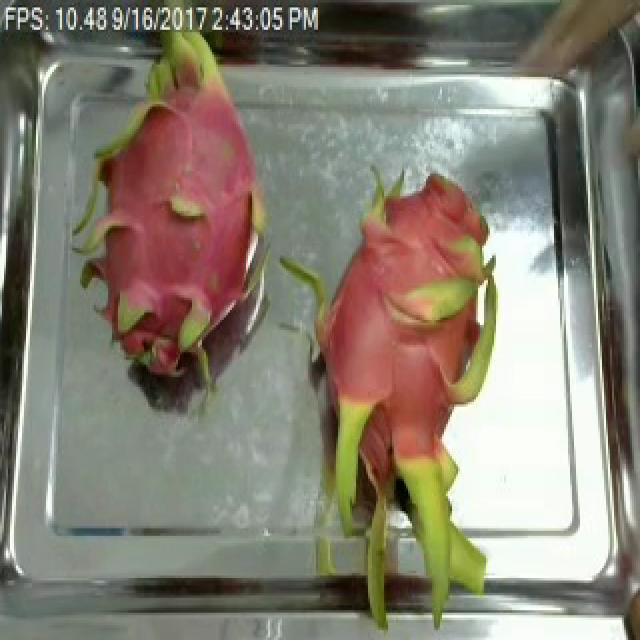Fruit: (336, 156, 494, 348)
